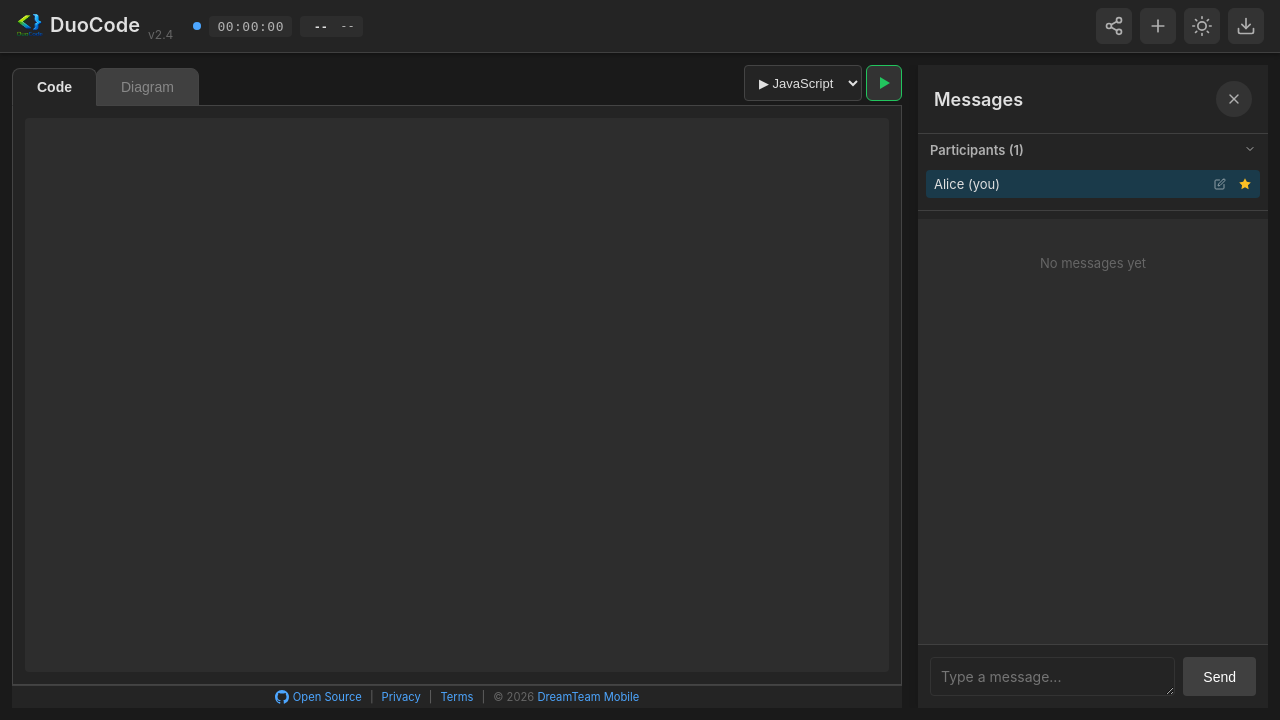
Test: Integration: Messages send and display › sends a message via Enter key
The width and height of the screenshot is (1280, 720).
Type "Enter message" into the text box with id "messageText" at coordinates (1053, 676), box [930,657,1175,696]
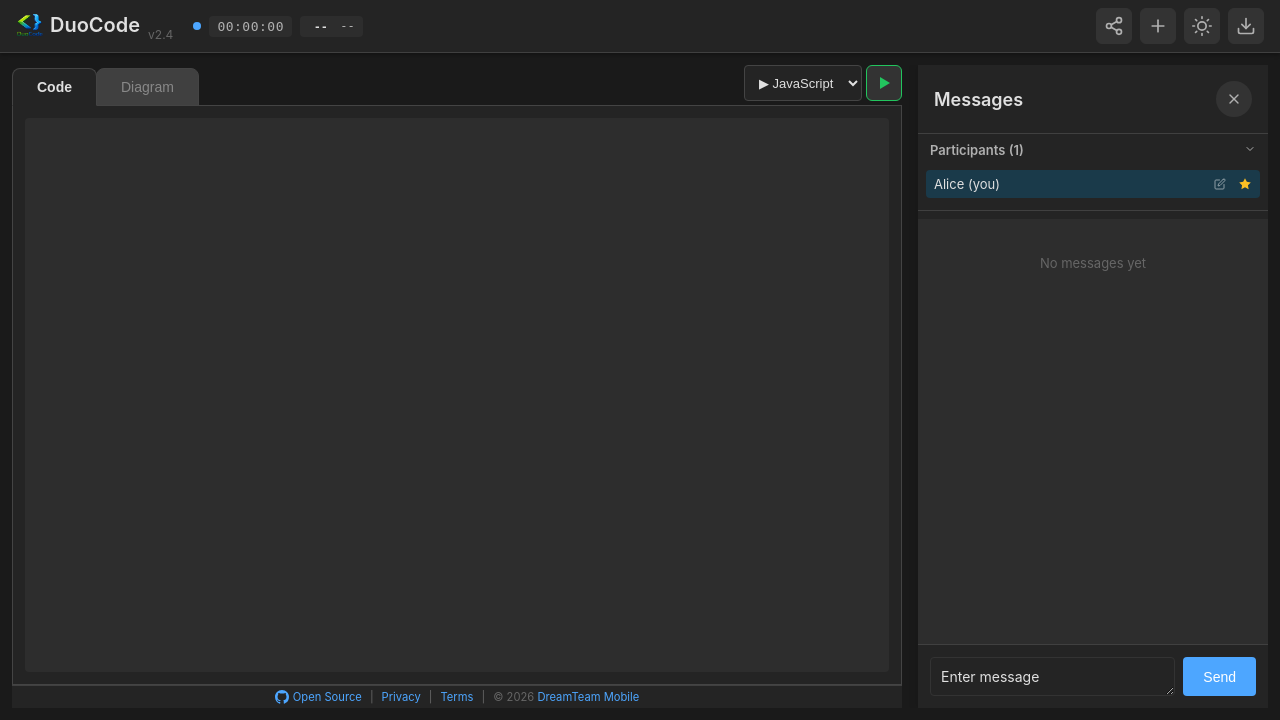
Press Enter in the text box with id "messageText", box [930,657,1175,696]
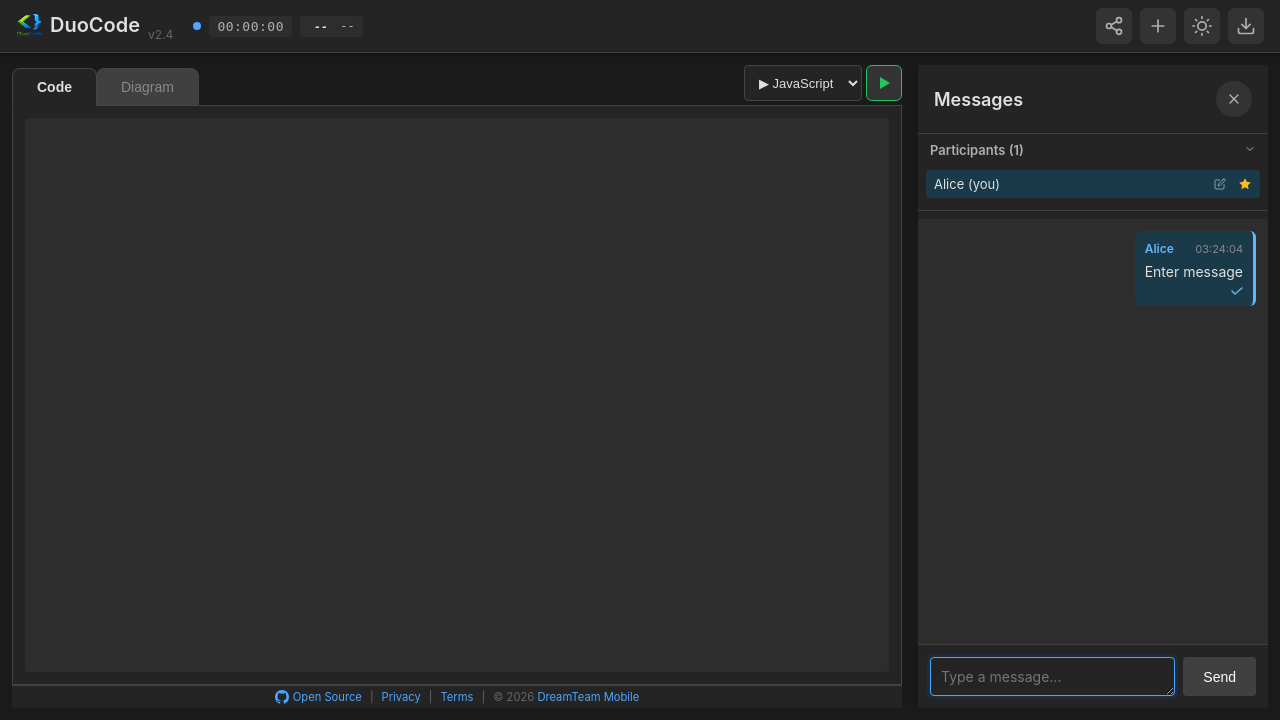
expect the text "Alice" is shown: met, box [1145,241,1174,256]
